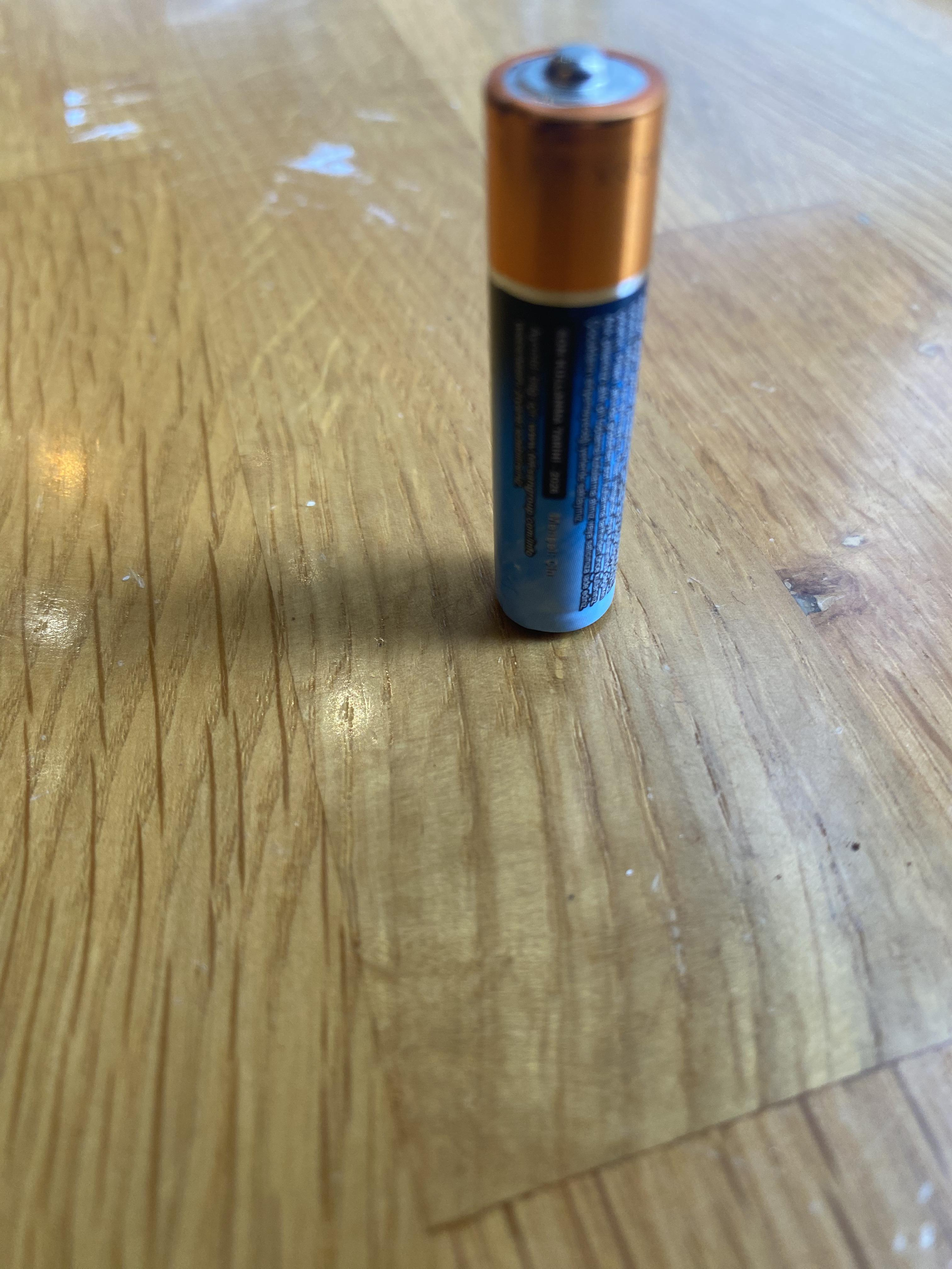AAA: (481, 42, 668, 633)
